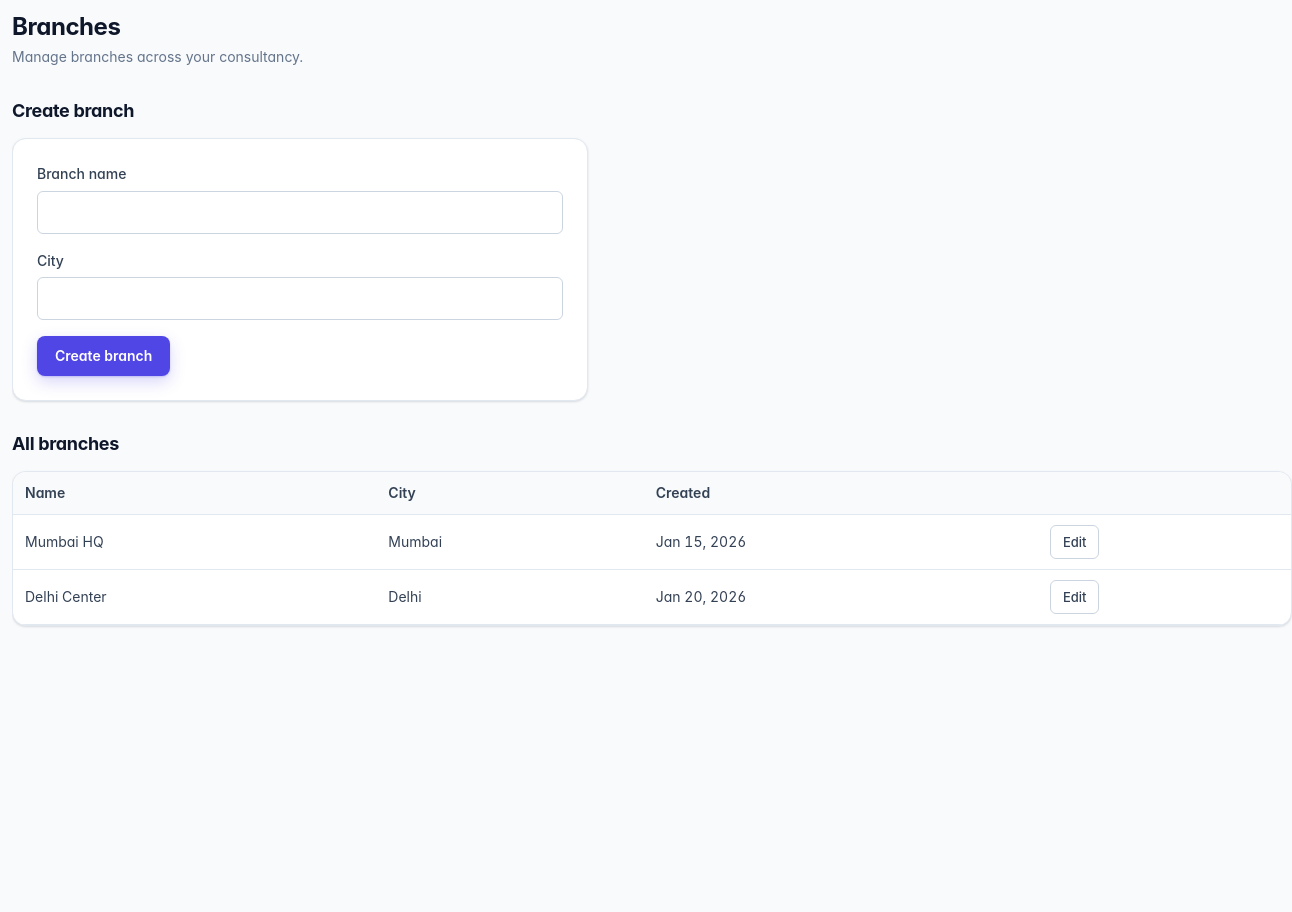
Scenario: BranchesPage › shows create error from API
Type "Invalid" into the field with test id "branch-name" at (300, 212), box [37, 191, 563, 234]
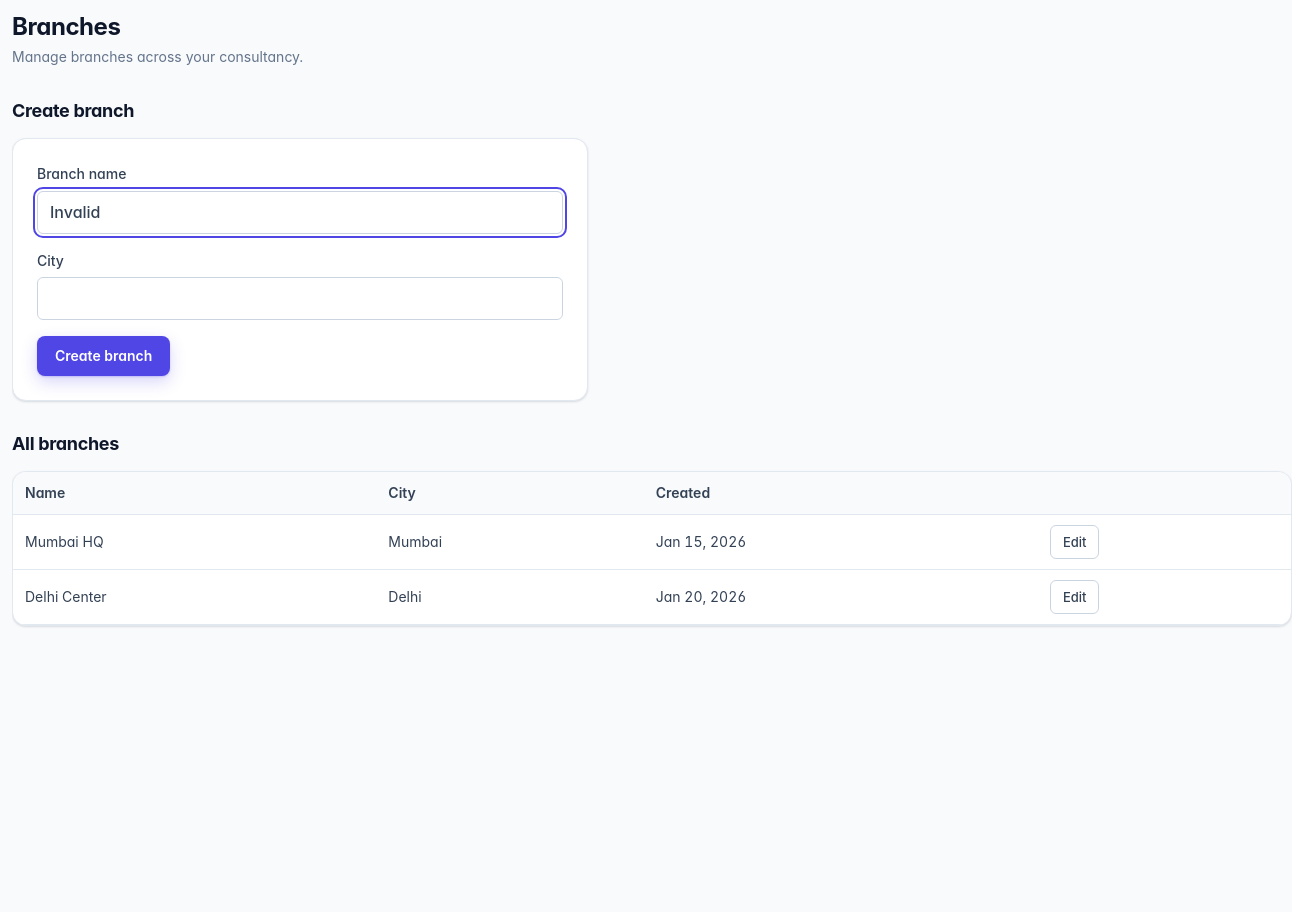
Type "City" into the field with test id "branch-city" at (300, 299), box [37, 277, 563, 320]
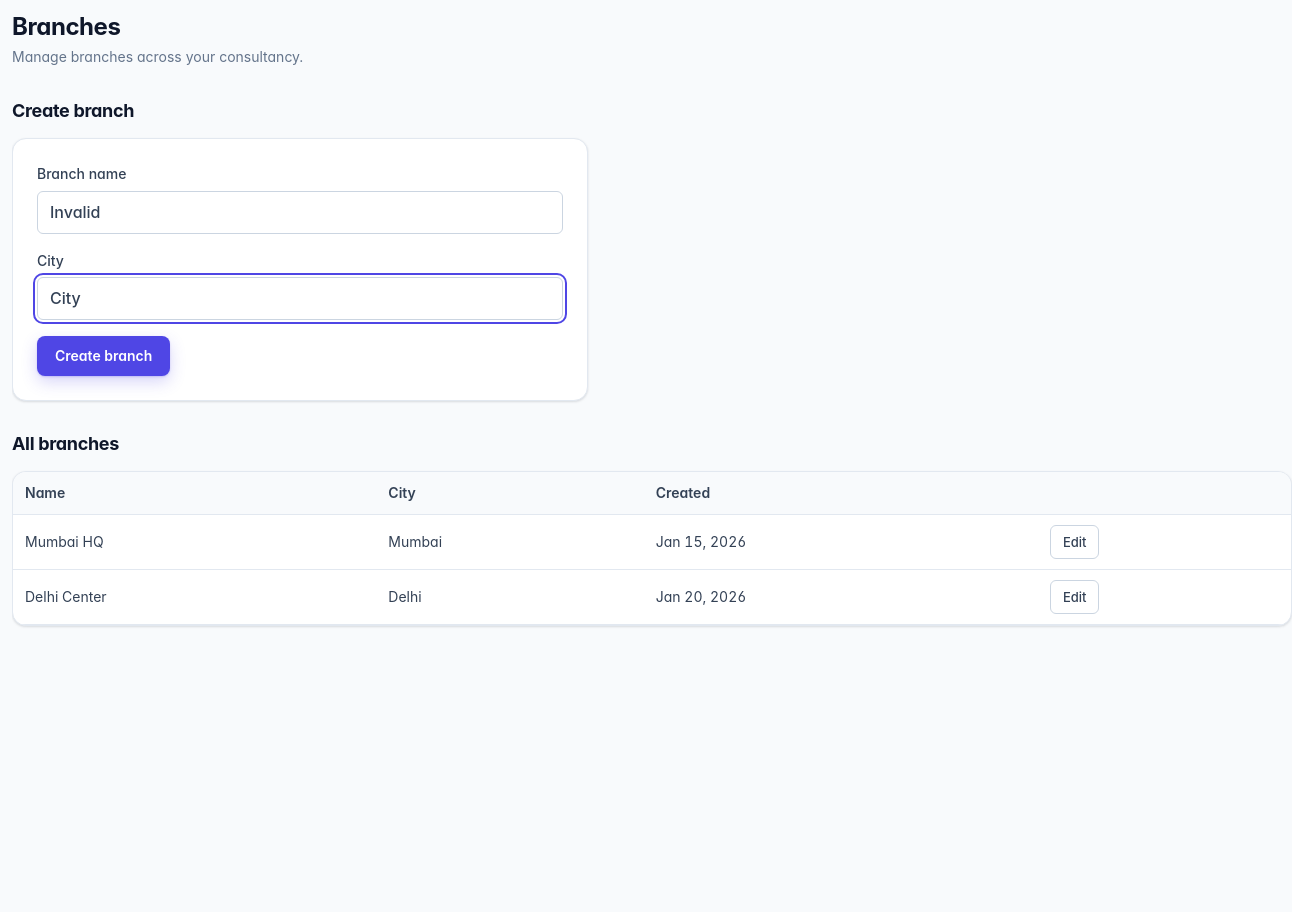
Click the button with test id "branch-create-submit" at (104, 356), box [37, 336, 170, 376]
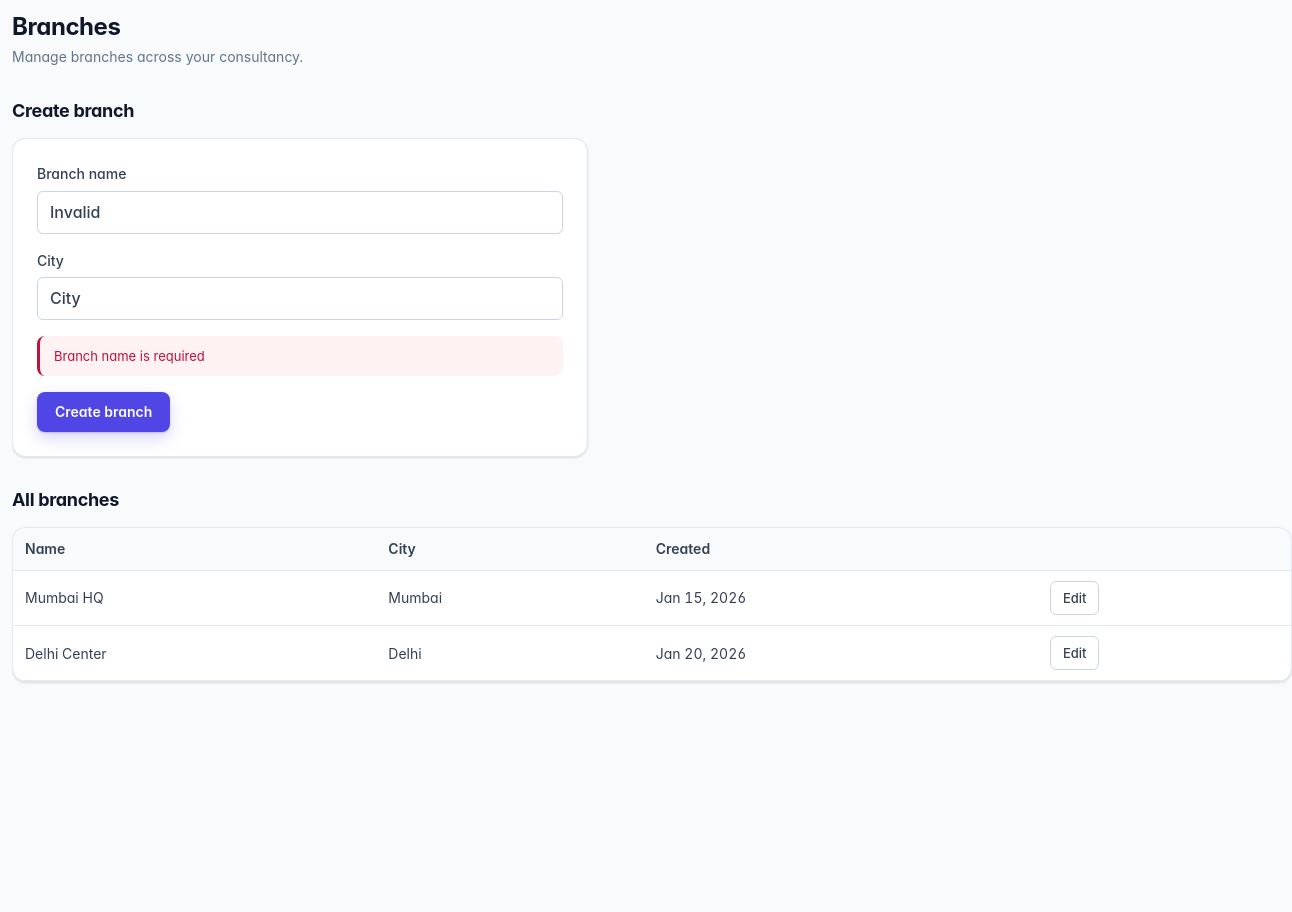
Expected: the message "Branch name is required" is shown, [37, 336, 563, 376]
Expected: the message with test id "branch-create-error" reads "Branch name is required", [54, 348, 205, 364]
